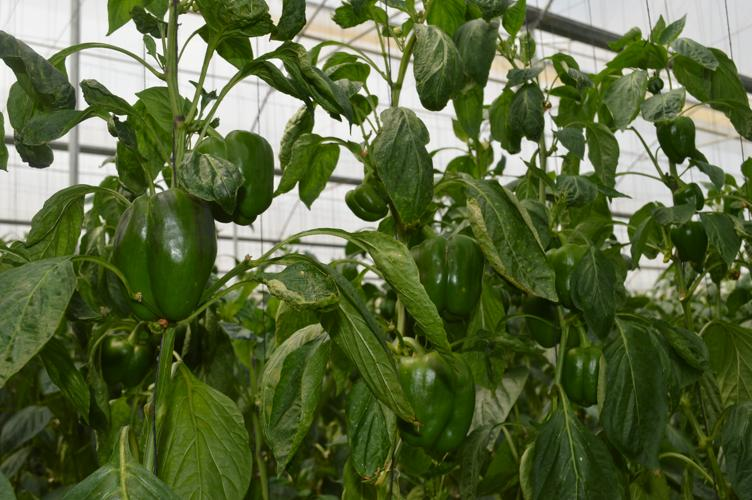BellPepper: (114, 191, 213, 319), (388, 353, 473, 453), (193, 132, 276, 228), (413, 235, 481, 317), (541, 244, 593, 312), (98, 331, 156, 388), (561, 347, 601, 411), (522, 294, 563, 349), (660, 116, 696, 164), (671, 222, 706, 265), (343, 188, 387, 222)
